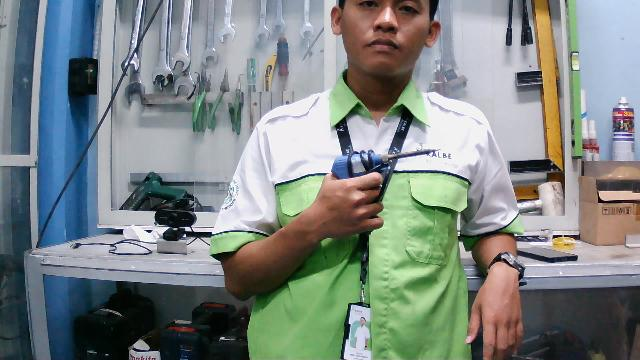solder_electrical: (329, 142, 442, 224)
